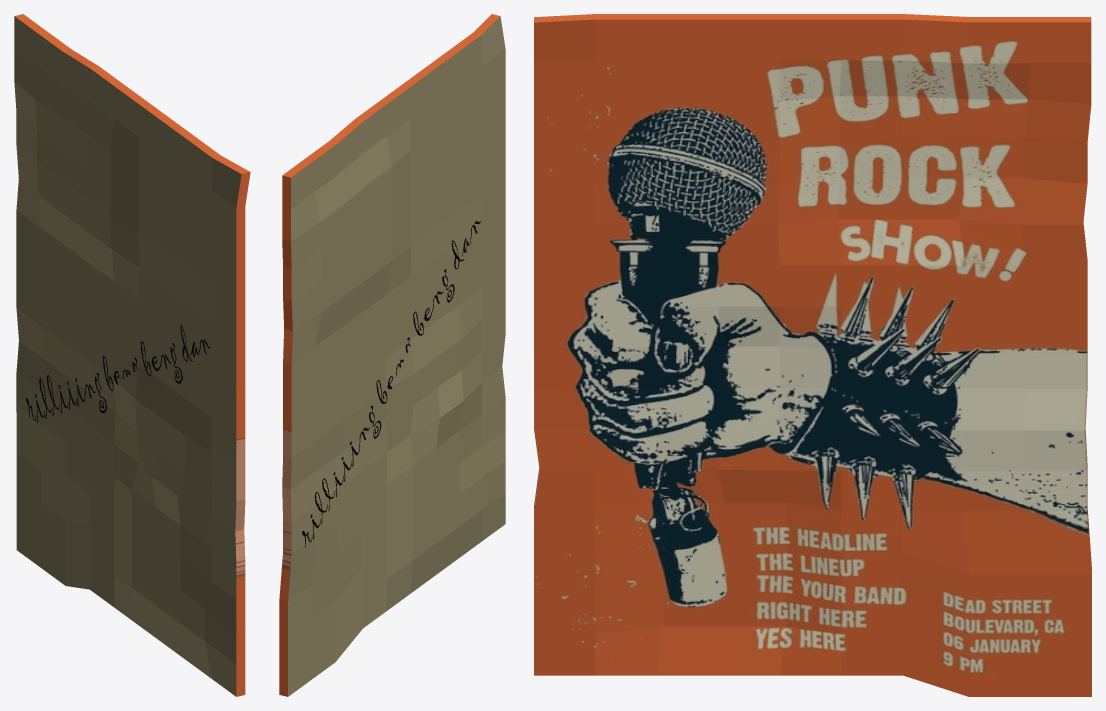
The model's file is poster2.glb.
3 views of the same model, side by side, from view 1: azimuth 30°, elevation 25°; view 2: azimuth 150°, elevation 25°; view 3: azimuth 270°, elevation 25° (orthographic). The views are drawn at different scales.
Parts seen in each view (by area): view 1: Plane, Text; view 2: Plane, Text; view 3: Plane.
Boxes of the visible parts, left/top/right/bottom form: Plane: left=14, top=14, right=250, bottom=696; Text: left=26, top=324, right=210, bottom=422; Plane: left=279, top=14, right=505, bottom=696; Text: left=302, top=221, right=480, bottom=547; Plane: left=534, top=14, right=1091, bottom=696.
Bounding box in the file's own units: 0.1378 × 3.2 × 2.39.
3 materials, 1 textured.
